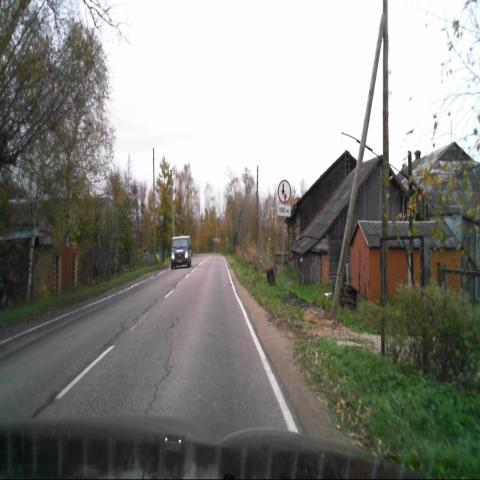2_6: (278, 178, 291, 202)
